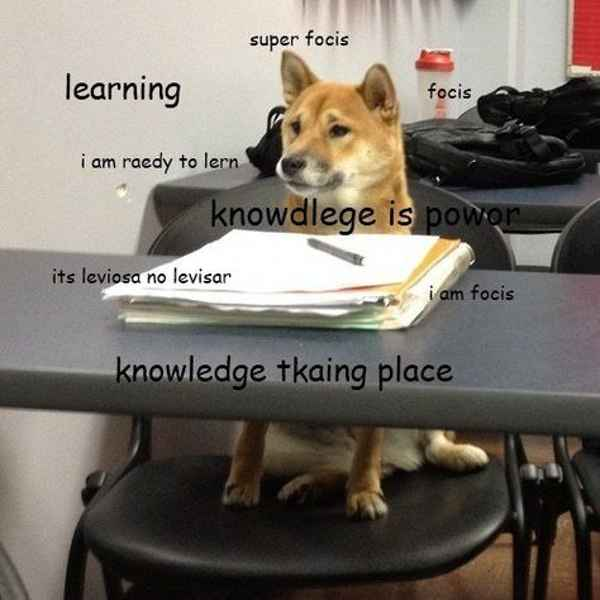doge: (254, 51, 406, 198)
